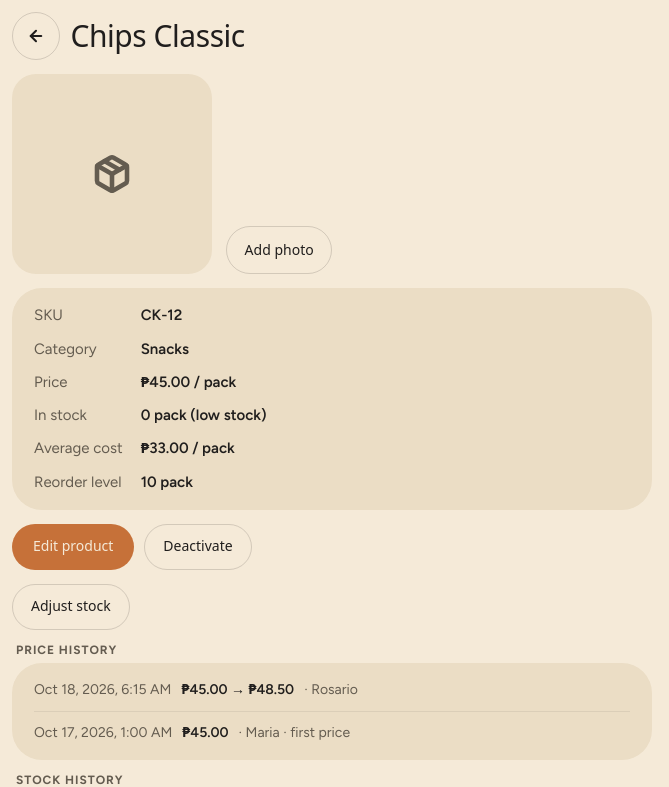
Test: Product page › the Owner edits the product
This screenshot has width=669, height=787.
Click the button "Edit product" at (73, 547), box x1=12 y1=524 x2=134 y2=570
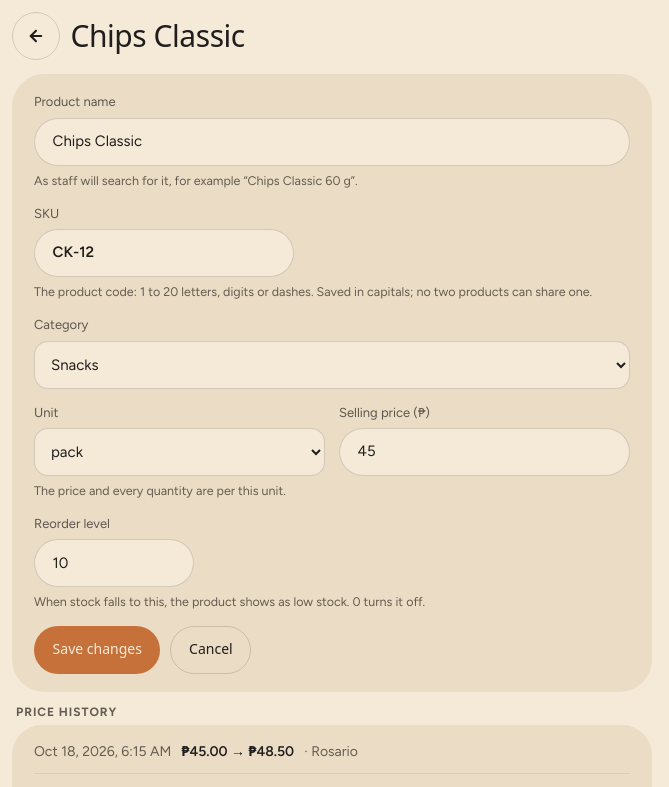
Replace the text in the field labelled "Selling price (₱)" with "48.50" at (484, 452), box x1=339 y1=428 x2=630 y2=476
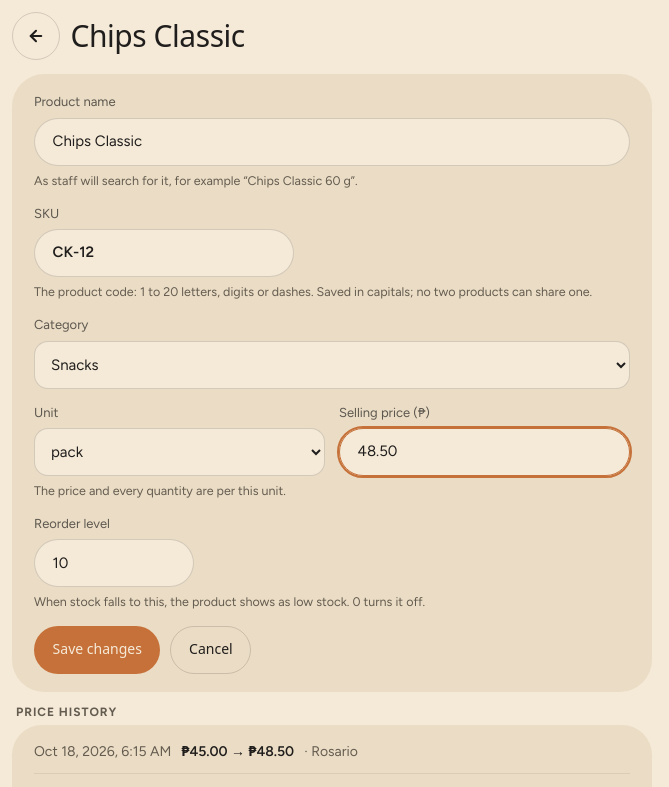
Click the button "Save changes" at (97, 650), box x1=34 y1=626 x2=160 y2=674
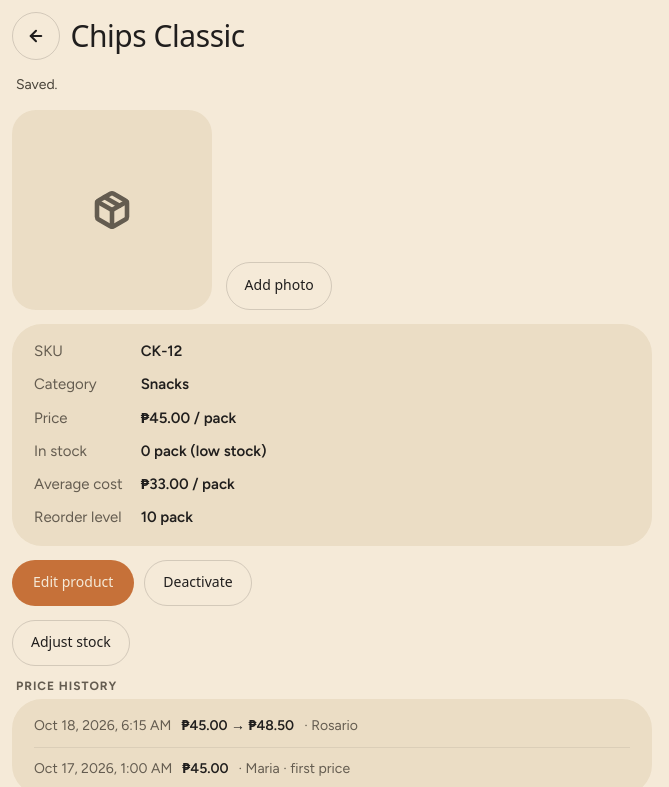
Check: the text "Saved." is shown, box x1=16 y1=76 x2=58 y2=93
